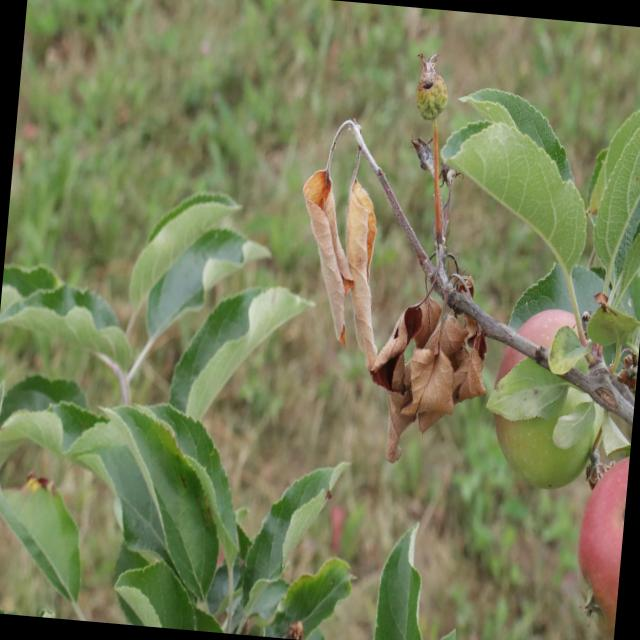-FireBlight-: (305, 173, 490, 460)
